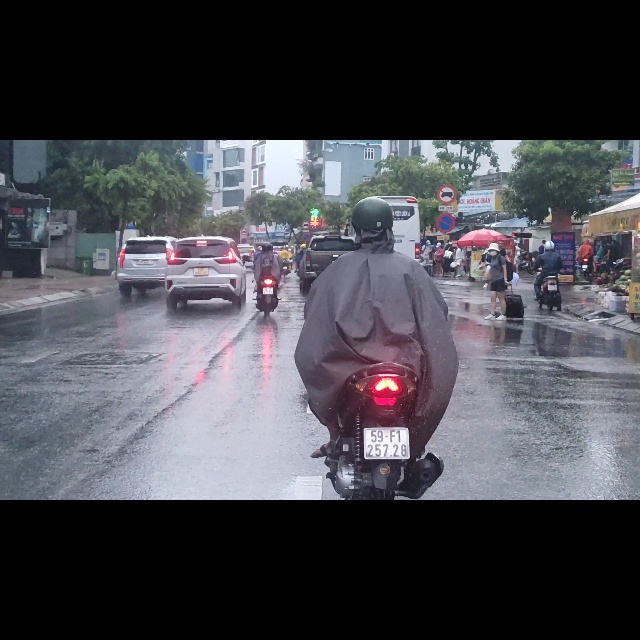bien_cam: (436, 78, 458, 116), (435, 126, 456, 164), (301, 165, 310, 180), (301, 143, 310, 158)
